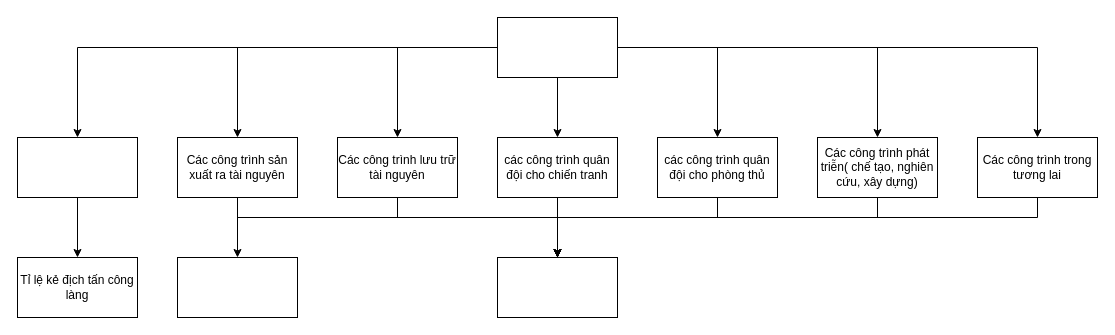
Some shapes in this 1115 by 335 pixel diagram are drawn without their labels. The shapes that lost their labels are listed below. From the top down, each one's centre as x and y in pixels, then its label:
At pixel 557 47: "trại lửa (nhà chính)".
At pixel 77 167: "Sức mạnh của các làng địch".
At pixel 237 287: "Các tài nguyên sẽ xuất hiện trên map(cây,quặng, động vật)".
At pixel 557 287: "Nghiên cứu".
